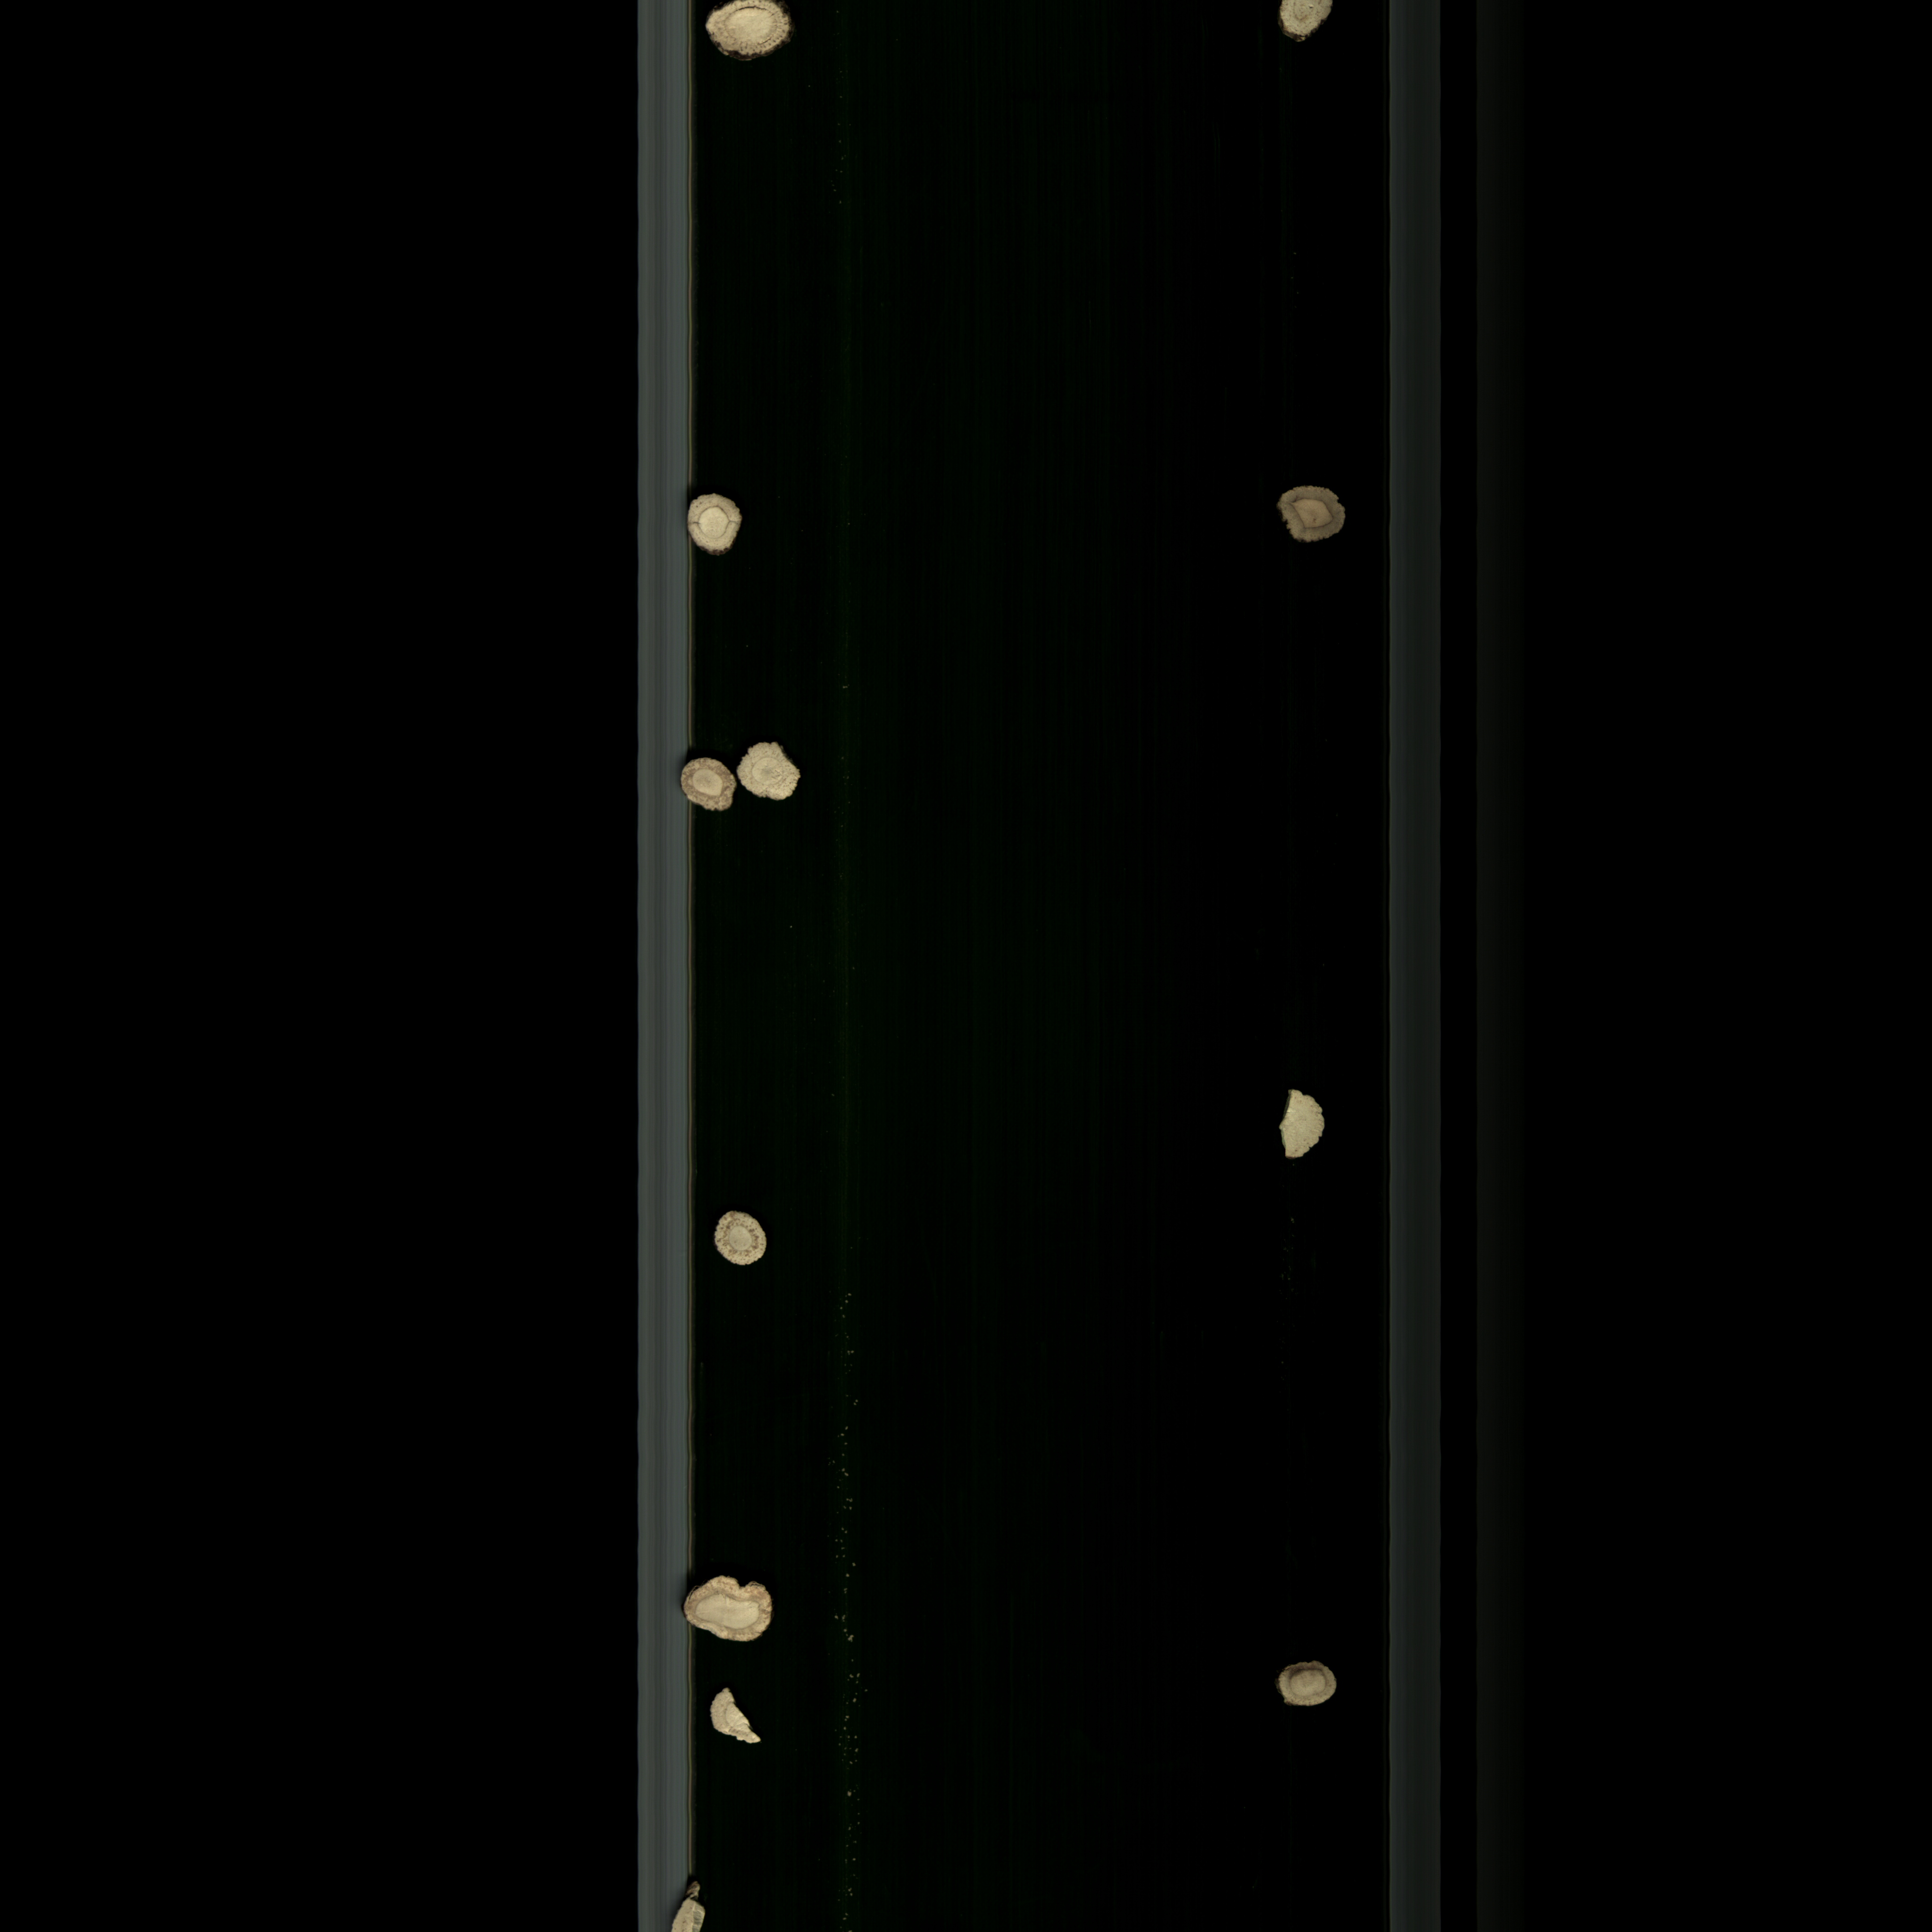debris: (1270, 1077, 1339, 1175), (736, 734, 810, 807), (663, 1861, 725, 1932)
distortion: (674, 1568, 784, 1649)
dreg: (701, 1683, 766, 1757)
moldy: (697, 0, 814, 64), (1258, 481, 1362, 550), (701, 1205, 787, 1276), (1263, 1656, 1348, 1718), (676, 750, 743, 821)
